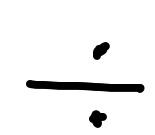div: (26, 41, 144, 128)
